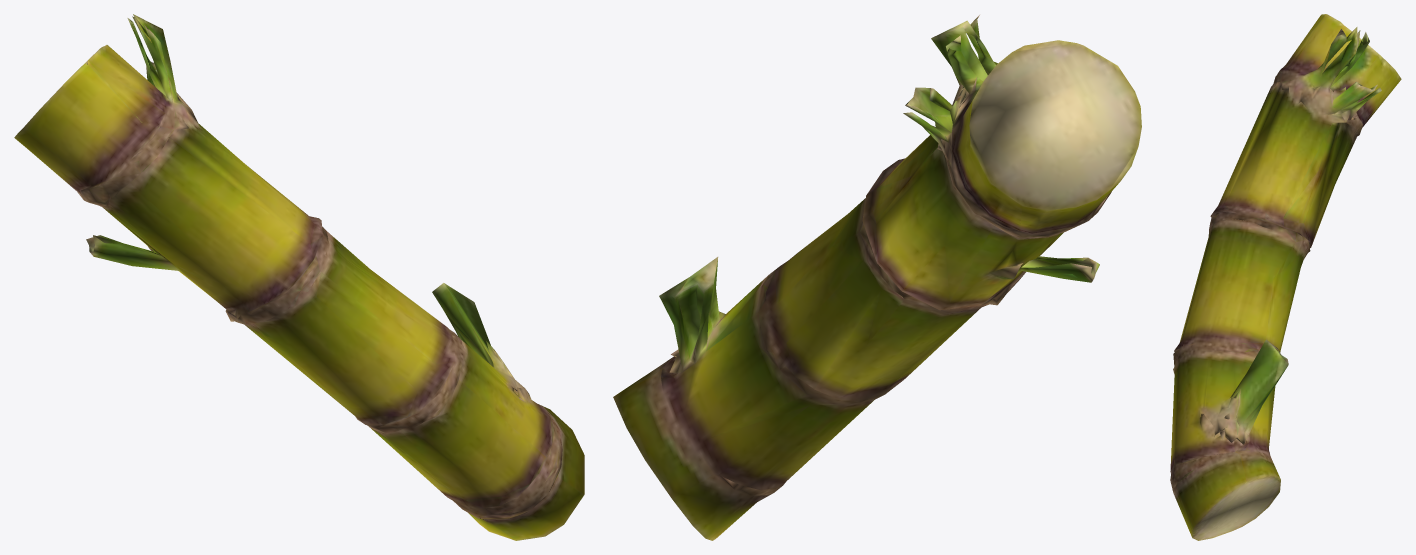
File: cane-piece-phone.glb
3 renders of one model, left to right at view 1: azimuth 30°, elevation 25°; view 2: azimuth 150°, elevation 25°; view 3: azimuth 270°, elevation 25°, orthographic. The views are drawn at different scales.
Parts seen in each view (by area): view 1: Model; view 2: Model; view 3: Model.
Part boxes in pixels (x1,y1,x2,y2): Model: (14,14,584,540); Model: (613,15,1141,540); Model: (1170,14,1401,540).
Size of the model in its own units: 1.8 by 1.9 by 0.9883.
Materials: 1 (1 with a texture image).
